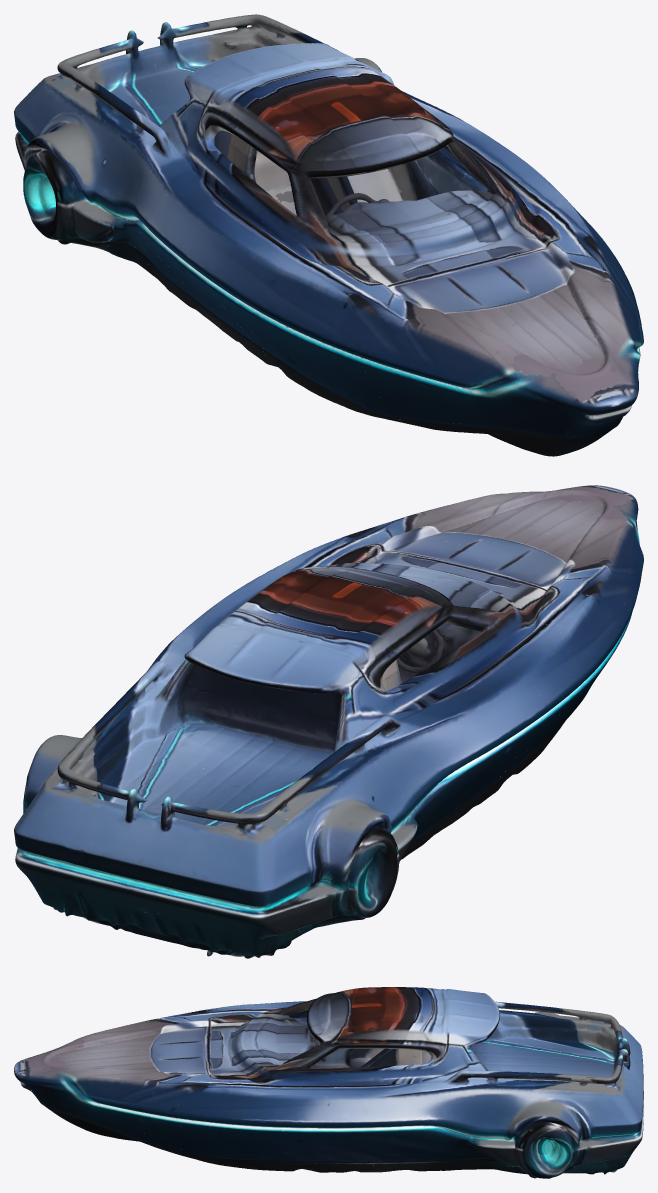
Rendered from boat_ship.glb.
3 renders of one model, top to bottom at view 1: azimuth 30°, elevation 25°; view 2: azimuth 150°, elevation 25°; view 3: azimuth 270°, elevation 25°, orthographic. The views are drawn at different scales.
Visible parts, largest first — view 1: tripo_node_496ae96f-b71b-4f9a-9ee5-04fa3e27d317; view 2: tripo_node_496ae96f-b71b-4f9a-9ee5-04fa3e27d317; view 3: tripo_node_496ae96f-b71b-4f9a-9ee5-04fa3e27d317.
Part boxes in pixels (x1,y1,x2,y2): tripo_node_496ae96f-b71b-4f9a-9ee5-04fa3e27d317: [14, 14, 643, 456]; tripo_node_496ae96f-b71b-4f9a-9ee5-04fa3e27d317: [14, 485, 643, 958]; tripo_node_496ae96f-b71b-4f9a-9ee5-04fa3e27d317: [14, 987, 643, 1178].
Bounding box in the file's own units: 0.4121 × 0.2496 × 1.
Materials: 1 (1 with a texture image).
